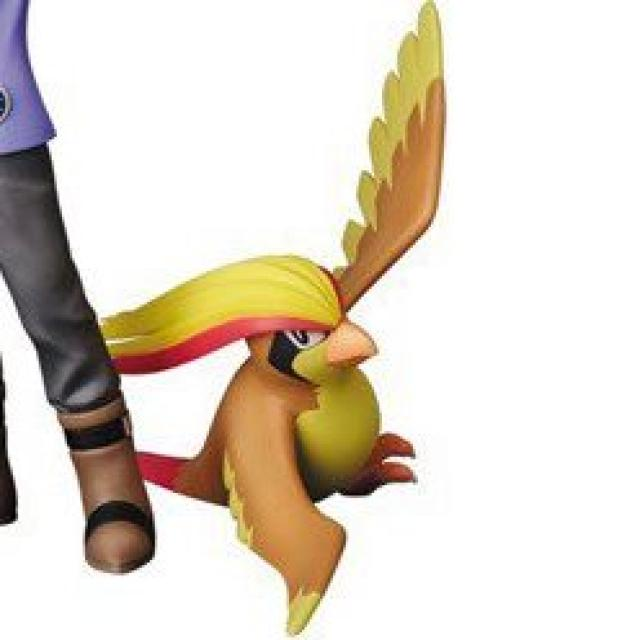Pidgeot: (122, 24, 458, 628)
